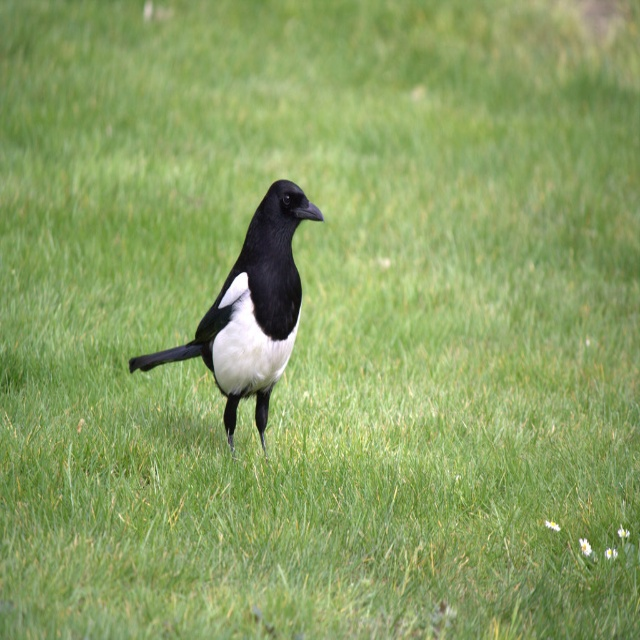Magpie: (130, 179, 323, 468)
